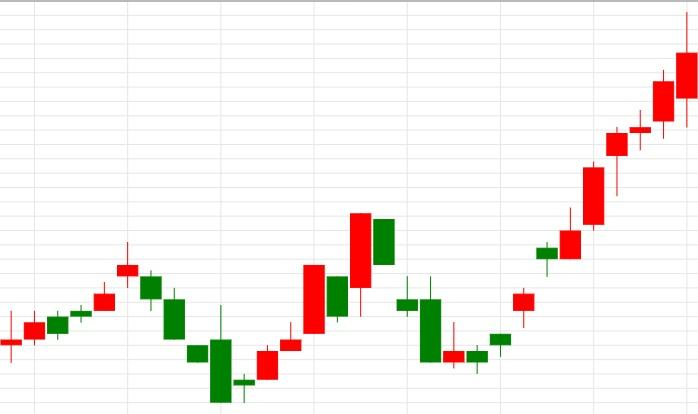hanging_man_fall: (512, 127, 628, 328)
three_white_soldiers_rise: (140, 265, 325, 403)
